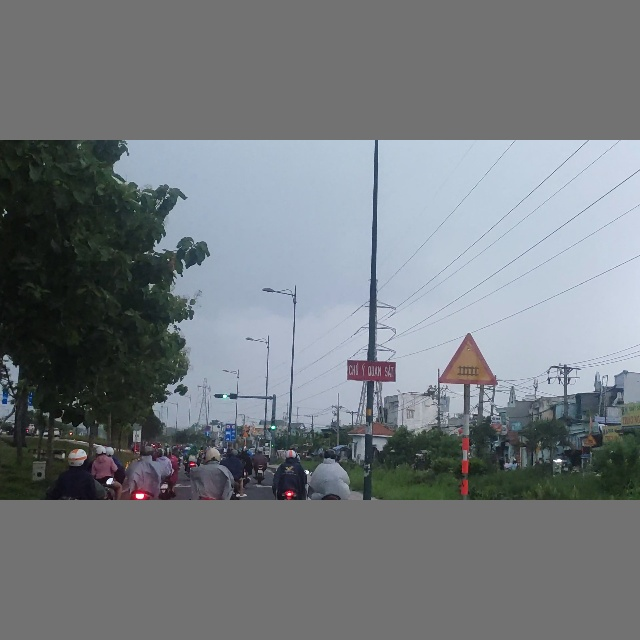I.407a: (205, 431, 211, 436)
W.210: (438, 332, 499, 386)
